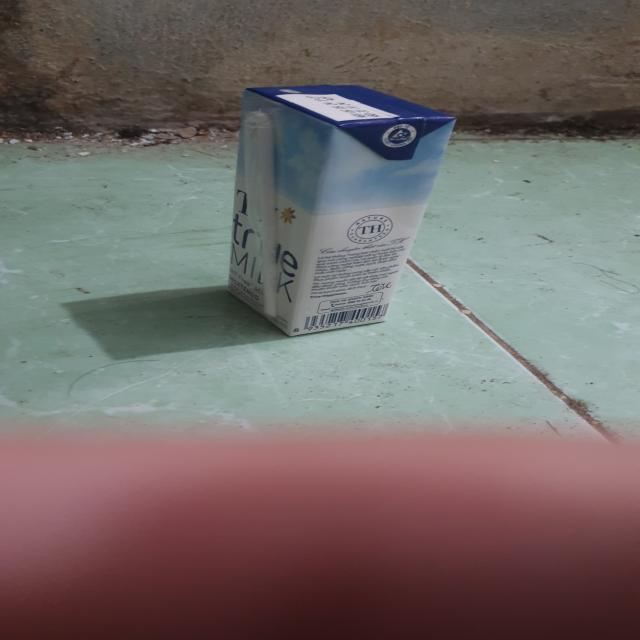TH: (225, 86, 457, 337)
